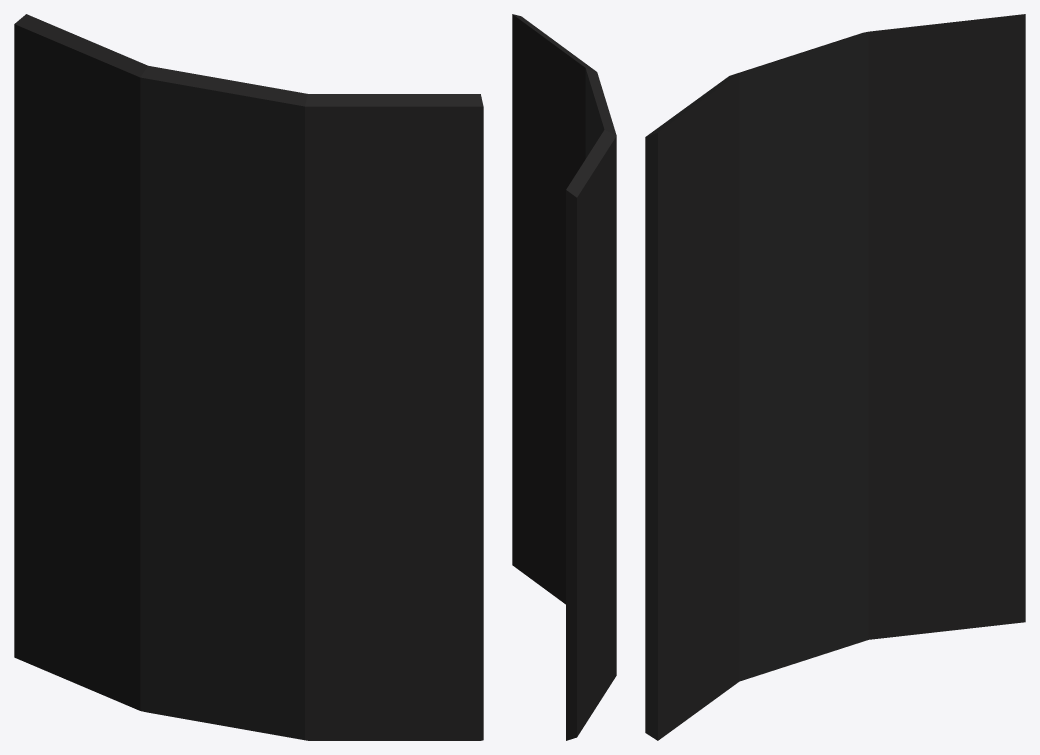
File: ele_doorB.gltf
The picture shows the model from 3 angles, left to right: view 1: azimuth 30°, elevation 25°; view 2: azimuth 150°, elevation 25°; view 3: azimuth 270°, elevation 25°; orthographic projection. The views are drawn at different scales.
Visible parts, largest first — view 1: elevator_door; view 2: elevator_door; view 3: elevator_door.
Part boxes in pixels (x1,y1,x2,y2): elevator_door: [14, 14, 483, 740]; elevator_door: [512, 14, 616, 740]; elevator_door: [645, 14, 1025, 740].
Size of what is drawn, in the model's own units: 1.5 by 3.43 by 1.95.
Materials: 1 (1 with a texture image).
